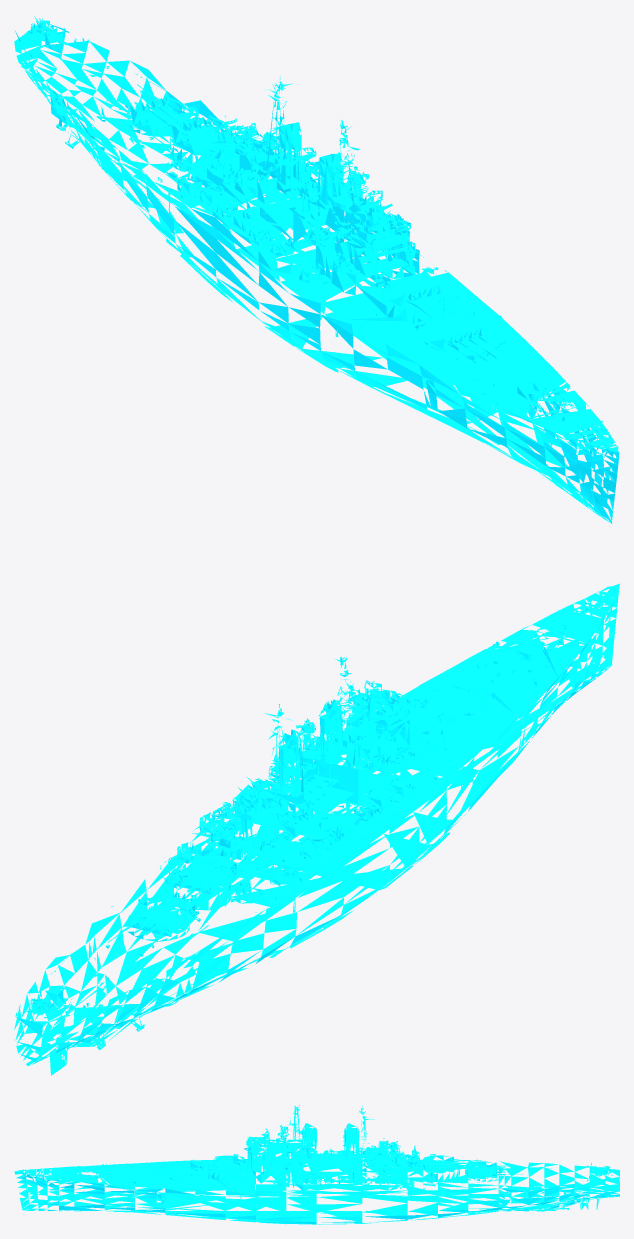
File: PBSB810.glb
3 views of the same model, one above another, from view 1: azimuth 30°, elevation 25°; view 2: azimuth 150°, elevation 25°; view 3: azimuth 270°, elevation 25° (orthographic). The views are drawn at different scales.
Visible parts, largest first — view 1: hull, turret; view 2: hull, turret; view 3: hull, turret.
Boxes of the visible parts, x1=… form: hull: x1=14, y1=16, x2=619, y2=523; turret: x1=125, y1=76, x2=506, y2=363; hull: x1=14, y1=583, x2=619, y2=1075; turret: x1=107, y1=673, x2=506, y2=942; hull: x1=14, y1=1105, x2=619, y2=1224; turret: x1=147, y1=1106, x2=523, y2=1187.
Size of the model in its own units: 2.13 by 3.21 by 16.58.
